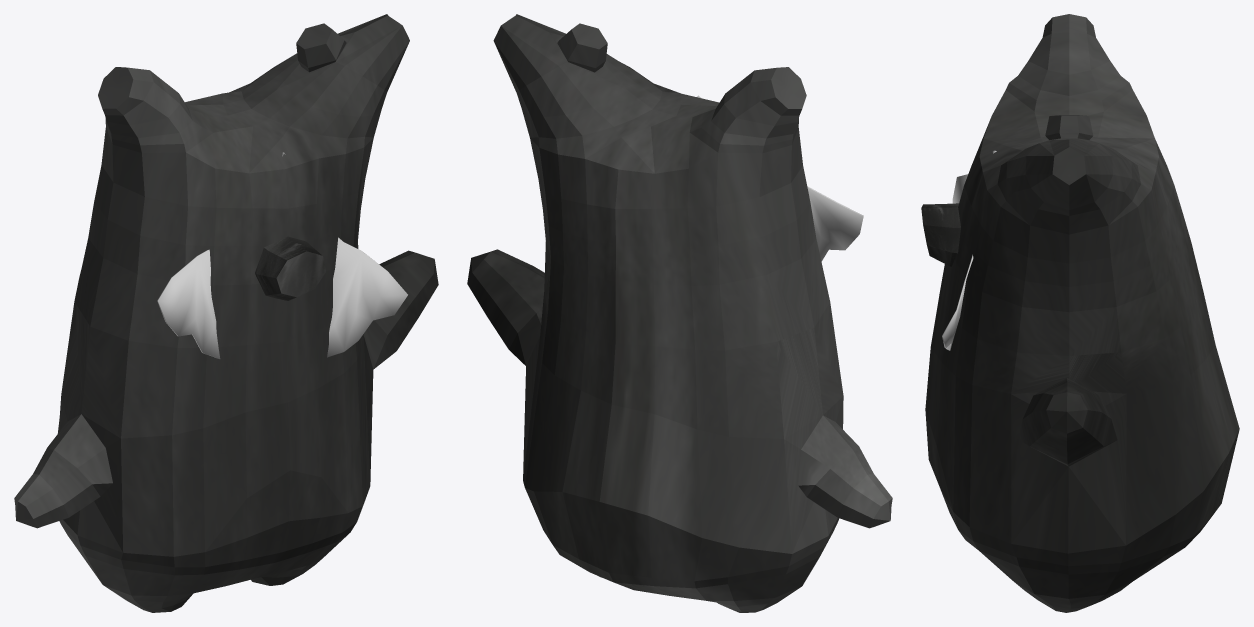
File: frame_0074.obj
The picture shows the model from 3 angles, left to right: view 1: azimuth 30°, elevation 25°; view 2: azimuth 150°, elevation 25°; view 3: azimuth 270°, elevation 25°; orthographic projection. The views are drawn at different scales.
Visible parts, largest first — view 1: korok, leaf, nose; view 2: korok, leaf; view 3: korok, nose, leaf.
Boxes of the visible parts, left/top/right/bottom form: korok: left=14, top=14, right=438, bottom=612; leaf: left=157, top=152, right=407, bottom=358; nose: left=255, top=236, right=325, bottom=300; korok: left=467, top=14, right=892, bottom=612; leaf: left=697, top=95, right=863, bottom=261; korok: left=925, top=14, right=1239, bottom=612; nose: left=921, top=203, right=960, bottom=266; leaf: left=942, top=150, right=996, bottom=350.
Size of the model in its own units: 1.72 by 2.16 by 1.18.
